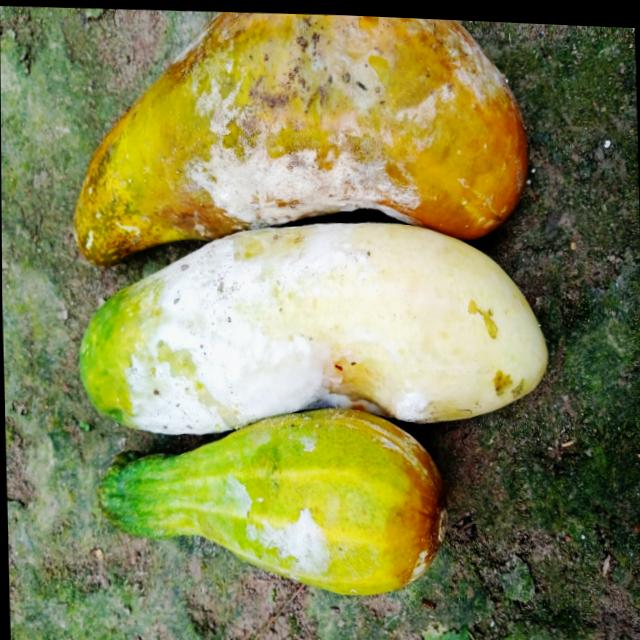Pythium-Fruit-Rot: (179, 6, 509, 233), (119, 212, 428, 438), (228, 469, 337, 576)
